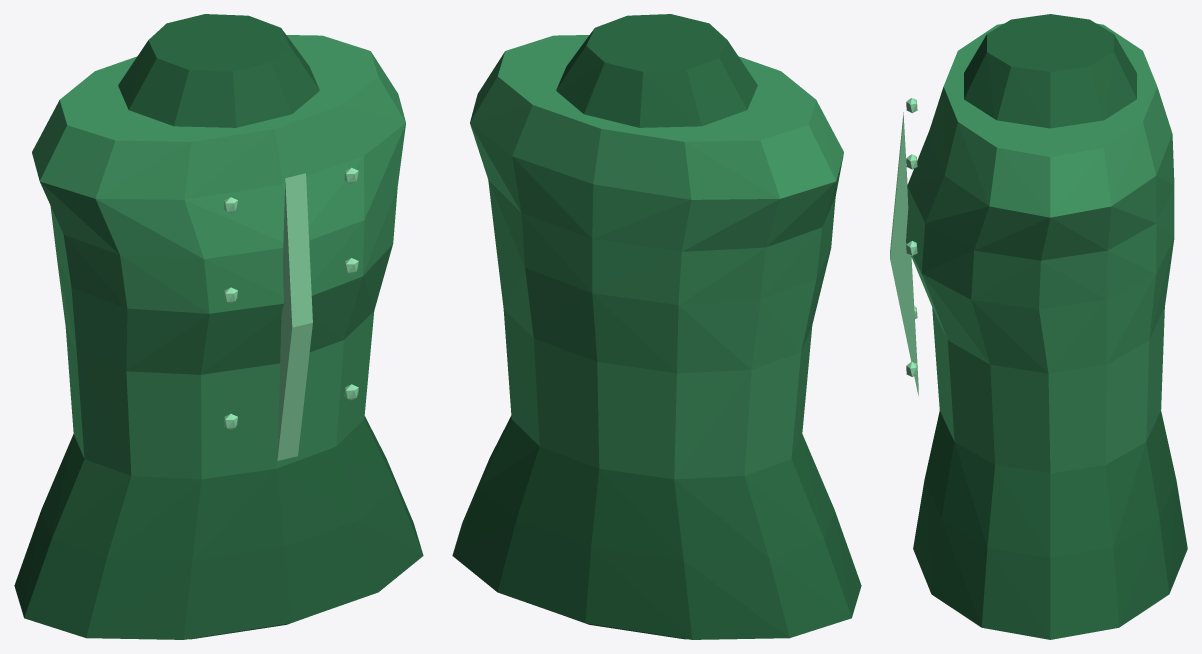
The model's file is gear_adamant_body_torso_f.glb.
The picture shows the model from 3 angles, left to right: view 1: azimuth 30°, elevation 25°; view 2: azimuth 150°, elevation 25°; view 3: azimuth 270°, elevation 25°; orthographic projection. The views are drawn at different scales.
Visible parts, largest first — view 1: gear_adamant_body_torso_f; view 2: gear_adamant_body_torso_f; view 3: gear_adamant_body_torso_f.
Part boxes in pixels (left/top/right/bottom): gear_adamant_body_torso_f: left=14, top=14, right=423, bottom=639; gear_adamant_body_torso_f: left=452, top=14, right=861, bottom=639; gear_adamant_body_torso_f: left=890, top=14, right=1187, bottom=639.
Bounding box in the file's own units: 0.452 × 0.59 × 0.312.
